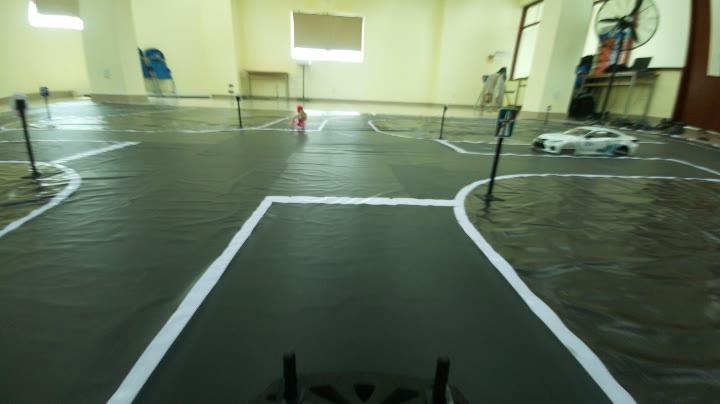highway_exit: (492, 102, 518, 142)
